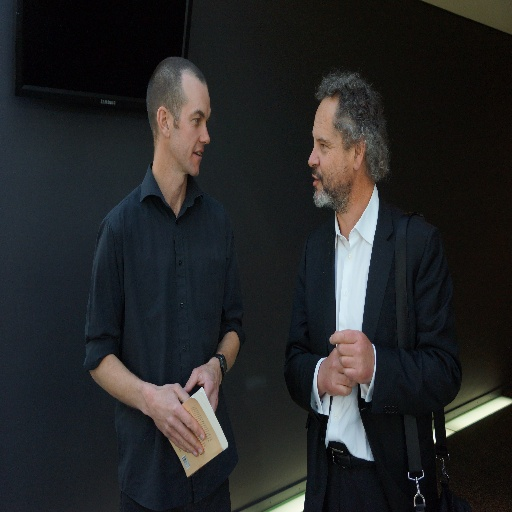hand: (181, 327, 237, 418), (150, 380, 206, 458), (328, 326, 375, 385), (321, 346, 358, 395)
